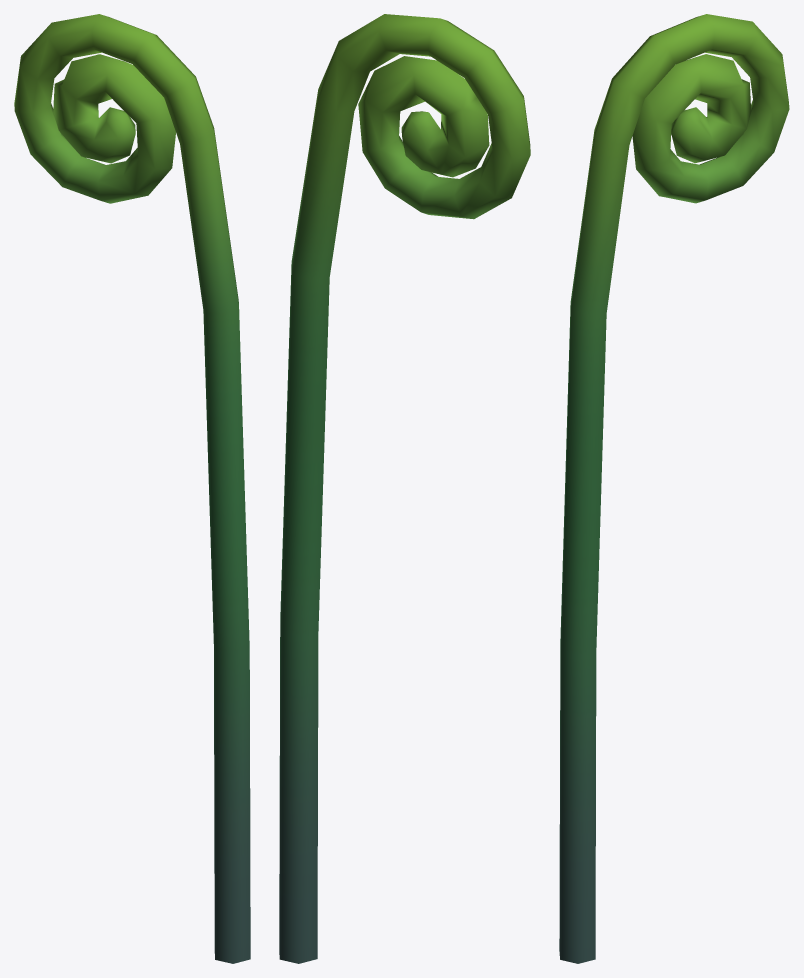
Rendered from plant_30.fbx.
3 renders of one model, left to right at view 1: azimuth 30°, elevation 25°; view 2: azimuth 210°, elevation 25°; view 3: azimuth 270°, elevation 25°, orthographic. The views are drawn at different scales.
Parts seen in each view (by area): view 1: plant_30; view 2: plant_30; view 3: plant_30.
Part boxes in pixels (bbox=[...]): plant_30: bbox=[14, 14, 250, 963]; plant_30: bbox=[279, 14, 530, 963]; plant_30: bbox=[559, 14, 789, 963].
Bounding box in the file's own units: 0.3929 × 2.46 × 0.5657.
